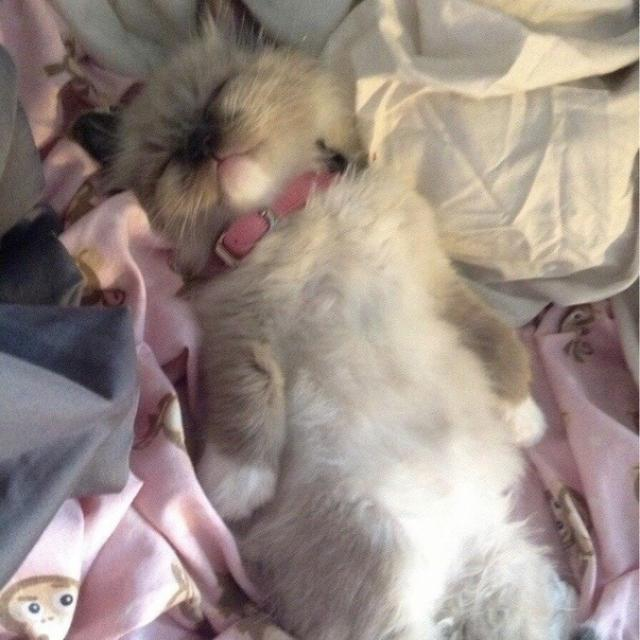da khoe manh: (234, 279, 475, 551)
